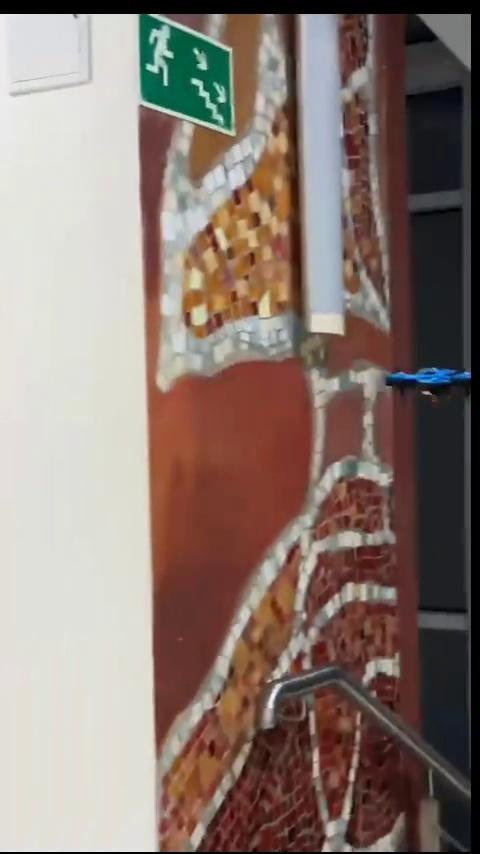drone: (381, 363, 474, 399)
